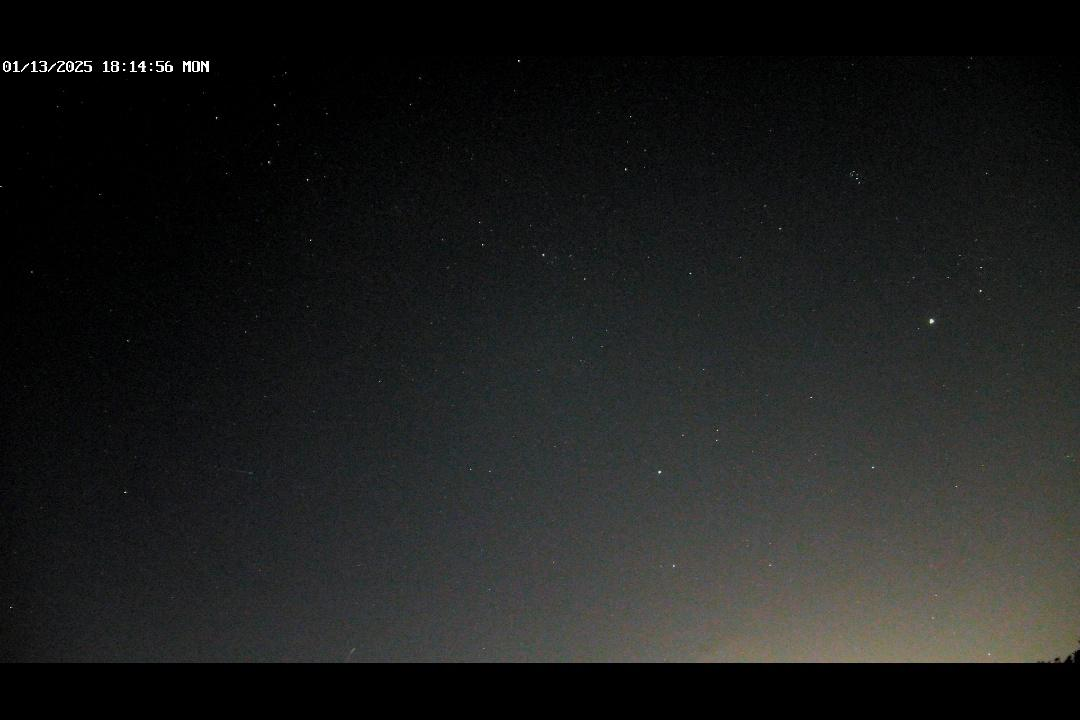Plane: (206, 462, 262, 482), (343, 644, 360, 662)
